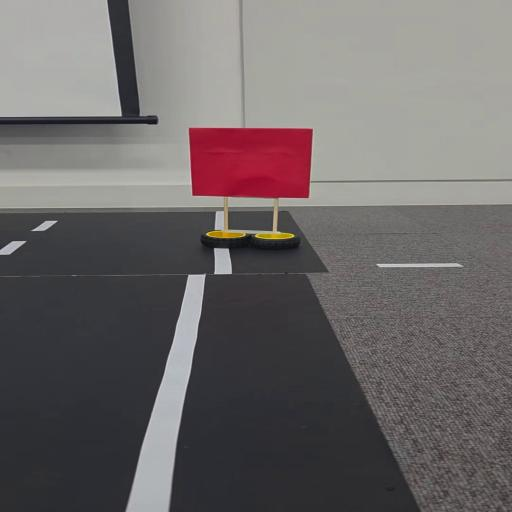Sign_A: (188, 123, 324, 249)
